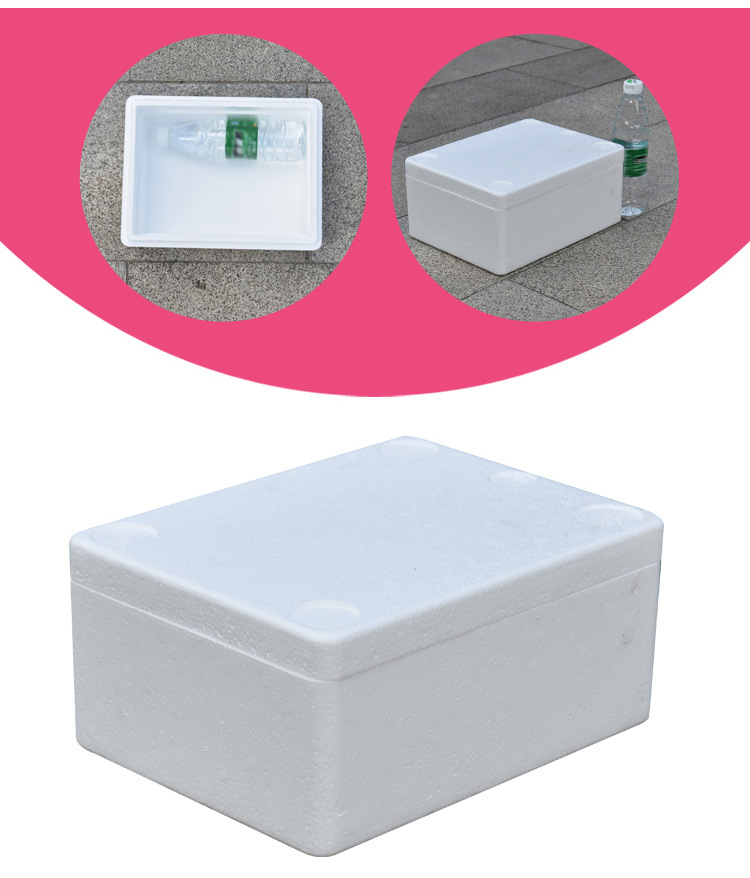泡沫箱: (70, 438, 662, 855), (405, 119, 624, 275), (121, 95, 323, 251)
